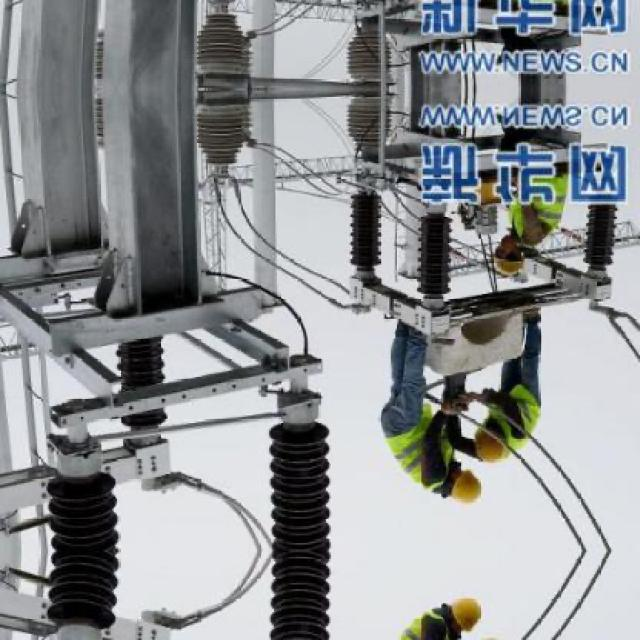con casco: (388, 460, 497, 528), (408, 418, 496, 479), (478, 226, 531, 280)
